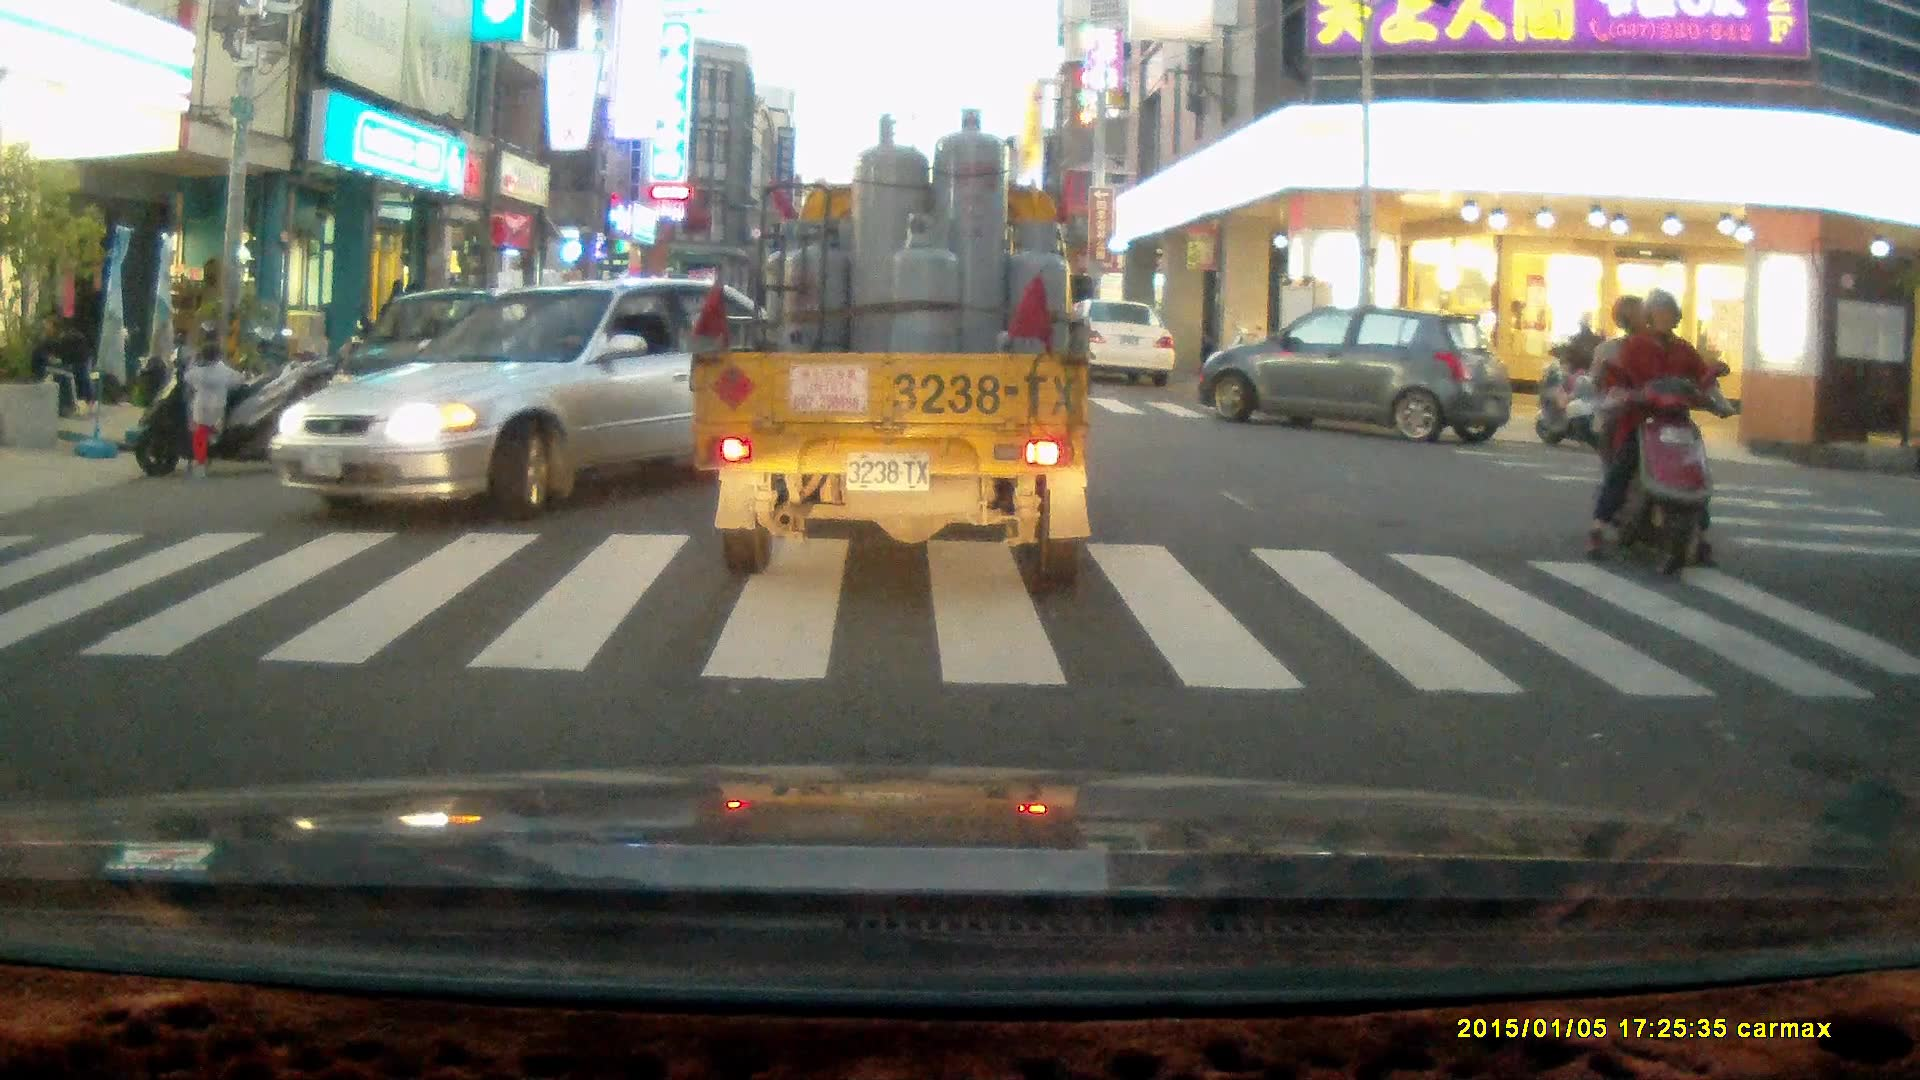pedestrian: (181, 341, 249, 480)
rider: (1578, 287, 1729, 578), (1543, 308, 1621, 431)
vehicle: (686, 107, 1091, 594), (273, 277, 824, 525), (1197, 306, 1508, 445), (1061, 299, 1184, 382)
